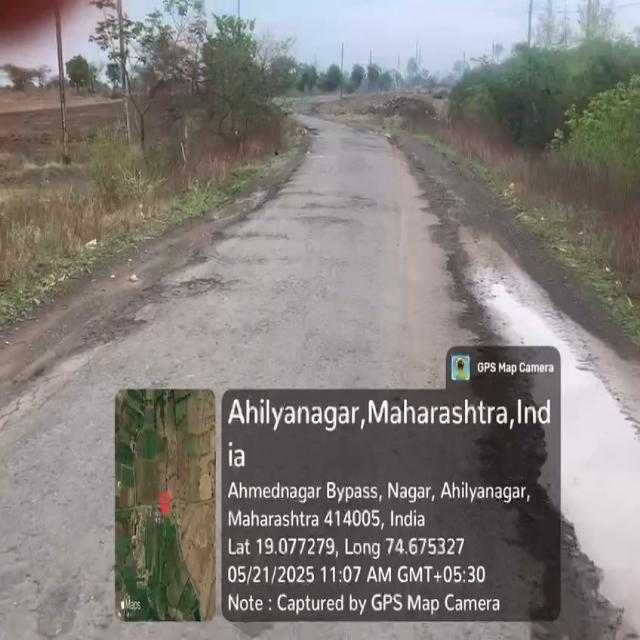damage surface: (169, 270, 231, 303)
